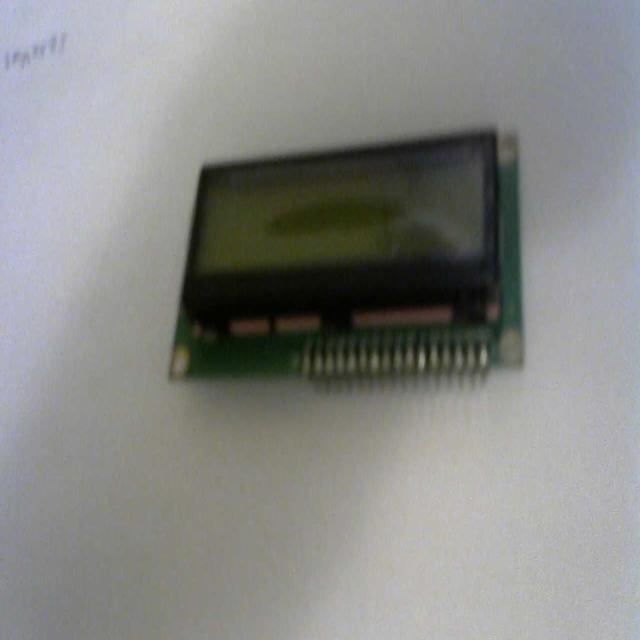lcd: (163, 148, 538, 394)
